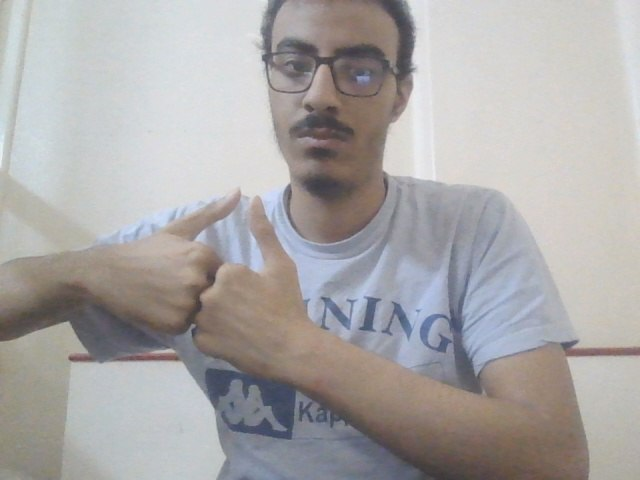Help: (110, 179, 327, 384)
